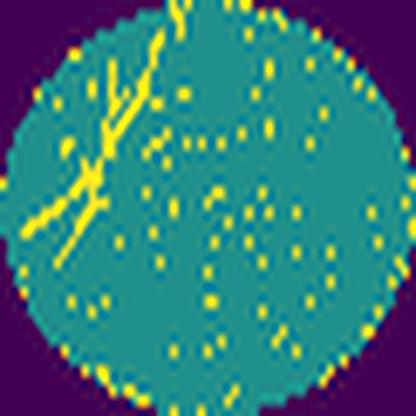Scratch: (17, 14, 178, 269)
